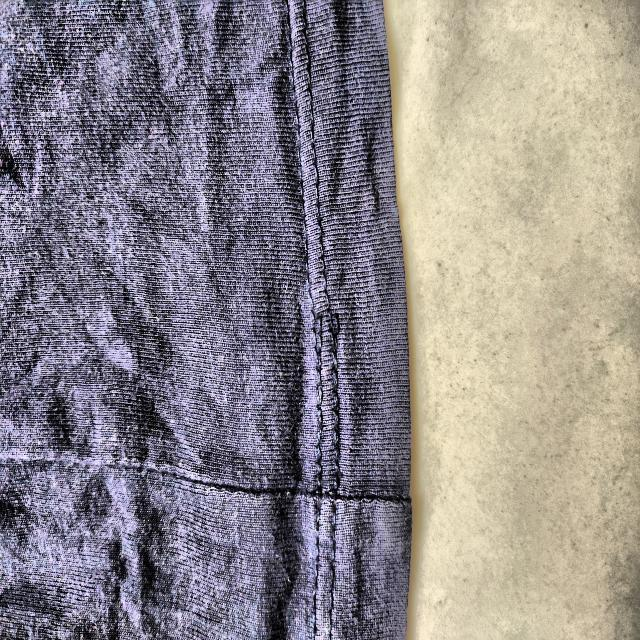gray stitch: (302, 296, 350, 369)
